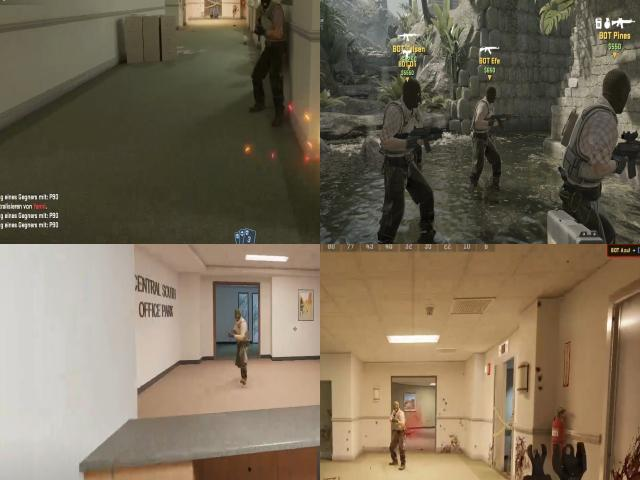T: (557, 64, 635, 244), (381, 80, 433, 244), (472, 83, 503, 204), (251, 0, 287, 77), (388, 395, 407, 445)
T-Head: (229, 305, 253, 391), (602, 65, 634, 113), (401, 76, 422, 108), (255, 0, 277, 14), (483, 84, 498, 104), (232, 308, 246, 326), (392, 402, 402, 415)
